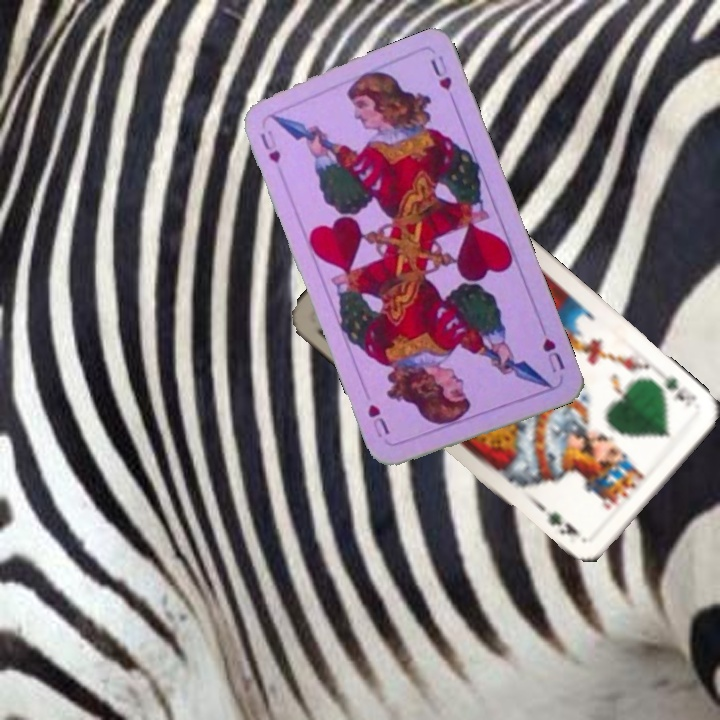GK: (659, 372, 699, 411)
HU: (536, 322, 568, 376), (256, 126, 283, 166)
